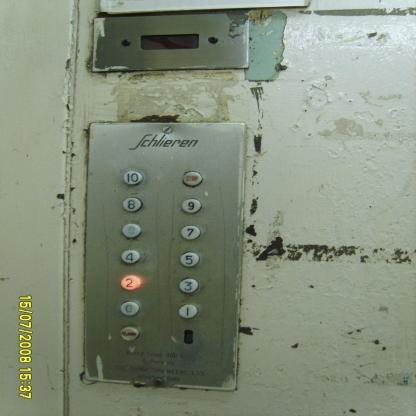0: (117, 298, 142, 319)
1: (174, 301, 200, 321)
10: (120, 168, 145, 188)
2: (118, 272, 143, 293)
3: (176, 276, 200, 297)
4: (118, 247, 143, 268)
5: (177, 249, 202, 270)
6: (119, 220, 144, 241)
7: (178, 222, 203, 243)
8: (119, 194, 144, 215)
9: (179, 196, 204, 216)
text: (179, 168, 204, 188), (117, 324, 142, 344)
